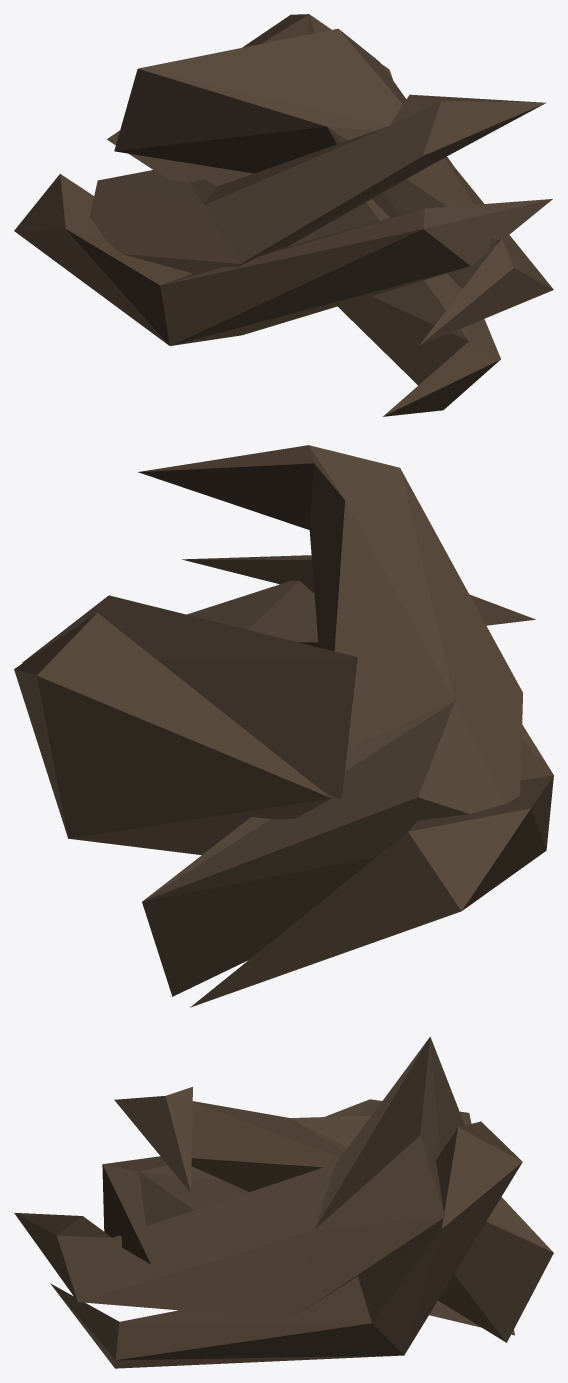
File: ITAT_CRAWLER_01.OBJ
3 views of the same model, one above another, from view 1: azimuth 30°, elevation 25°; view 2: azimuth 150°, elevation 25°; view 3: azimuth 270°, elevation 25° (orthographic). The views are drawn at different scales.
Visible parts, largest first — view 1: ITAT_CRAWLER_01; view 2: ITAT_CRAWLER_01; view 3: ITAT_CRAWLER_01.
Boxes of the visible parts, bbox=[...] form: ITAT_CRAWLER_01: bbox=[14, 14, 553, 416]; ITAT_CRAWLER_01: bbox=[14, 445, 553, 1007]; ITAT_CRAWLER_01: bbox=[14, 1036, 553, 1368].
Size of the model in its own units: 0.5134 by 0.3583 by 0.6165.
